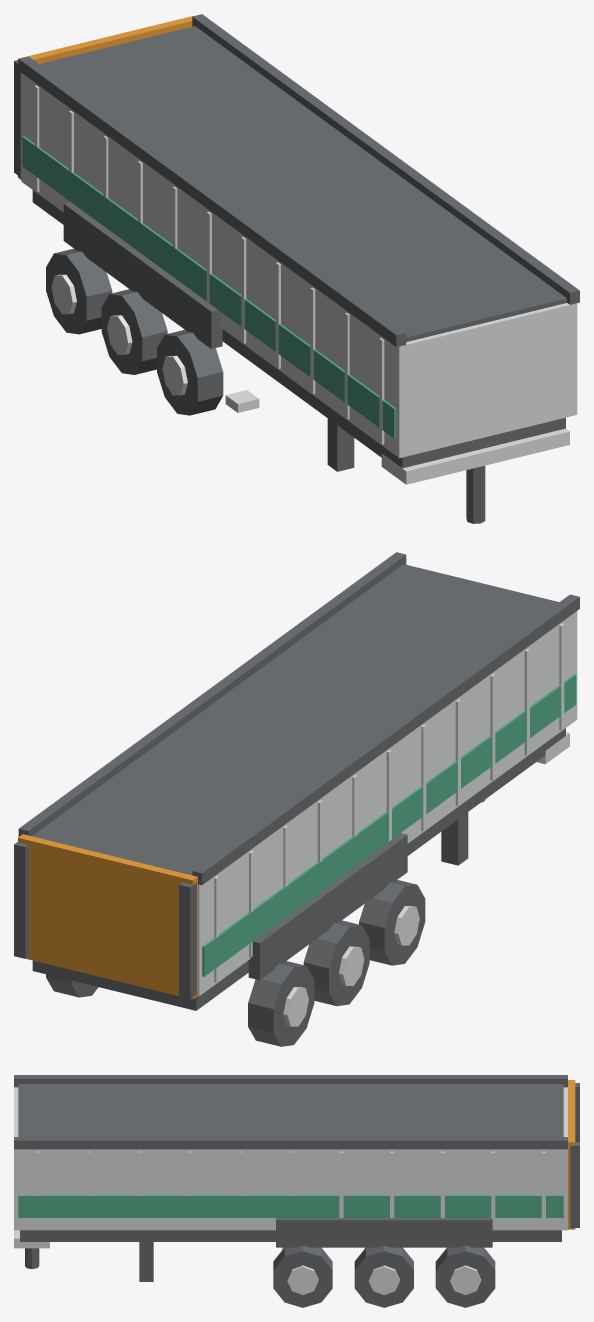
File: recycling-and-waste-transfer-yard-recycling-and-waste--626e1a14__34913.glb
3 views of the same model, one above another, from view 1: azimuth 30°, elevation 25°; view 2: azimuth 150°, elevation 25°; view 3: azimuth 270°, elevation 25° (orthographic). The views are drawn at different scales.
Parts seen in each view (by area): view 1: recycling-and-waste-transfer-yard-transfer-trailer; view 2: recycling-and-waste-transfer-yard-transfer-trailer; view 3: recycling-and-waste-transfer-yard-transfer-trailer.
Boxes of the visible parts, x1,y1,x2,y2 form: recycling-and-waste-transfer-yard-transfer-trailer: (14, 14, 579, 523); recycling-and-waste-transfer-yard-transfer-trailer: (14, 552, 579, 1046); recycling-and-waste-transfer-yard-transfer-trailer: (14, 1075, 579, 1307).
Size of the model in its own units: 3.32 by 2.92 by 9.4.
